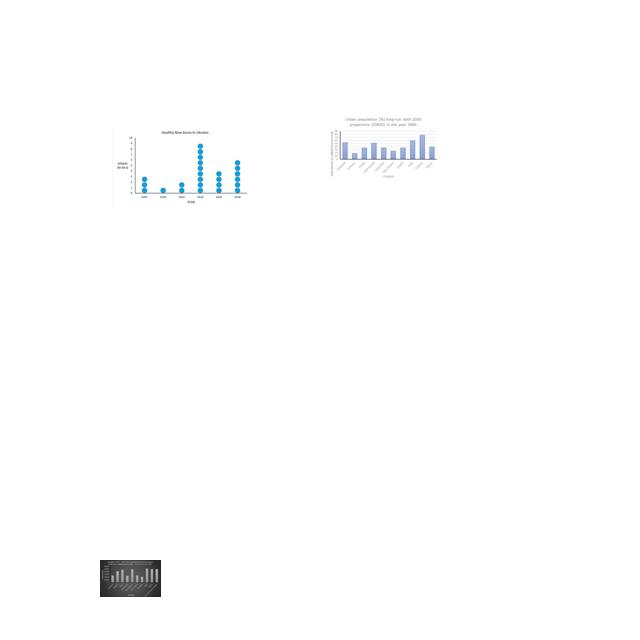Graph: (112, 127, 250, 208), (328, 116, 438, 179), (100, 560, 161, 597)
